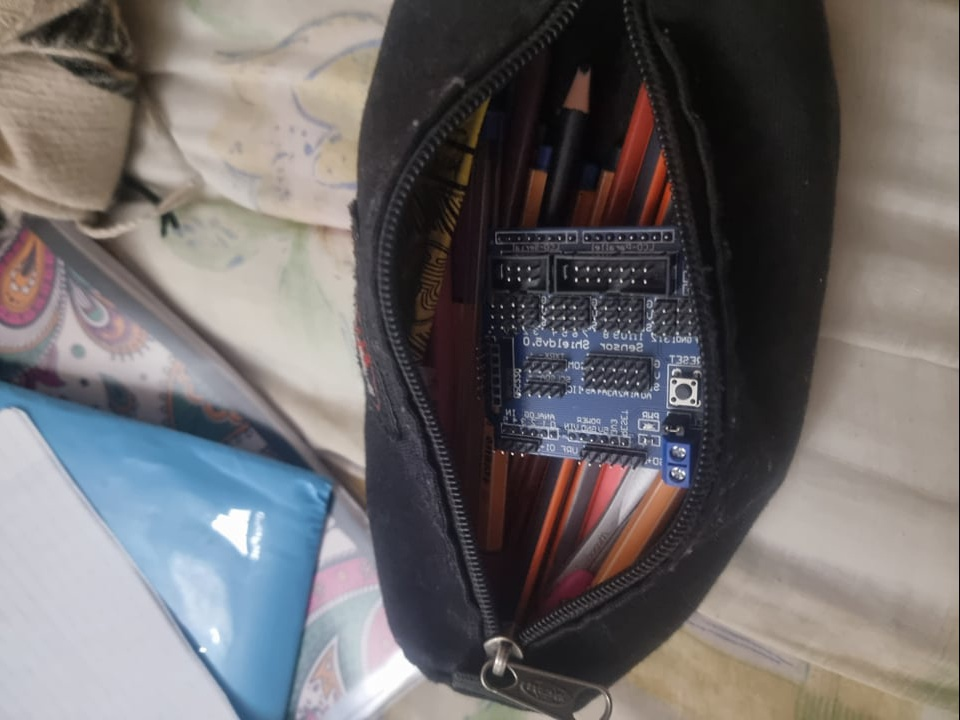5V EXPANSION: (485, 220, 708, 490)
